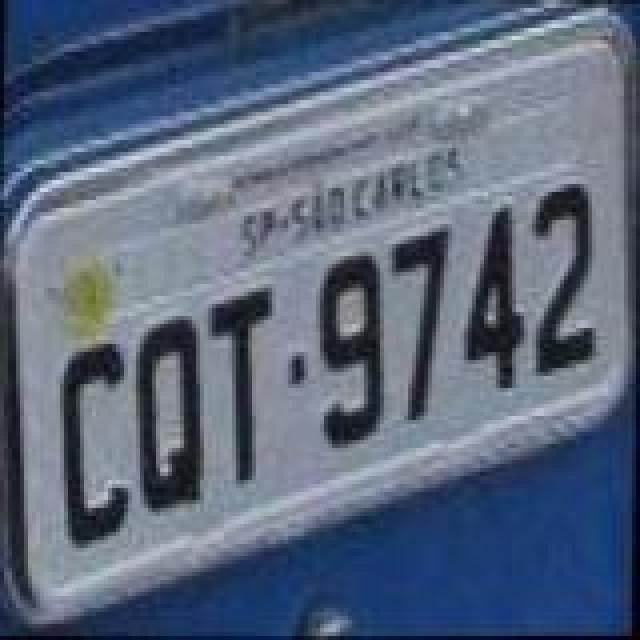2: (530, 178, 602, 374)
4: (460, 202, 528, 394)
7: (390, 218, 454, 426)
9: (312, 250, 388, 450)
C: (54, 338, 134, 550)
Q: (136, 312, 212, 516)
T: (202, 278, 274, 486)
